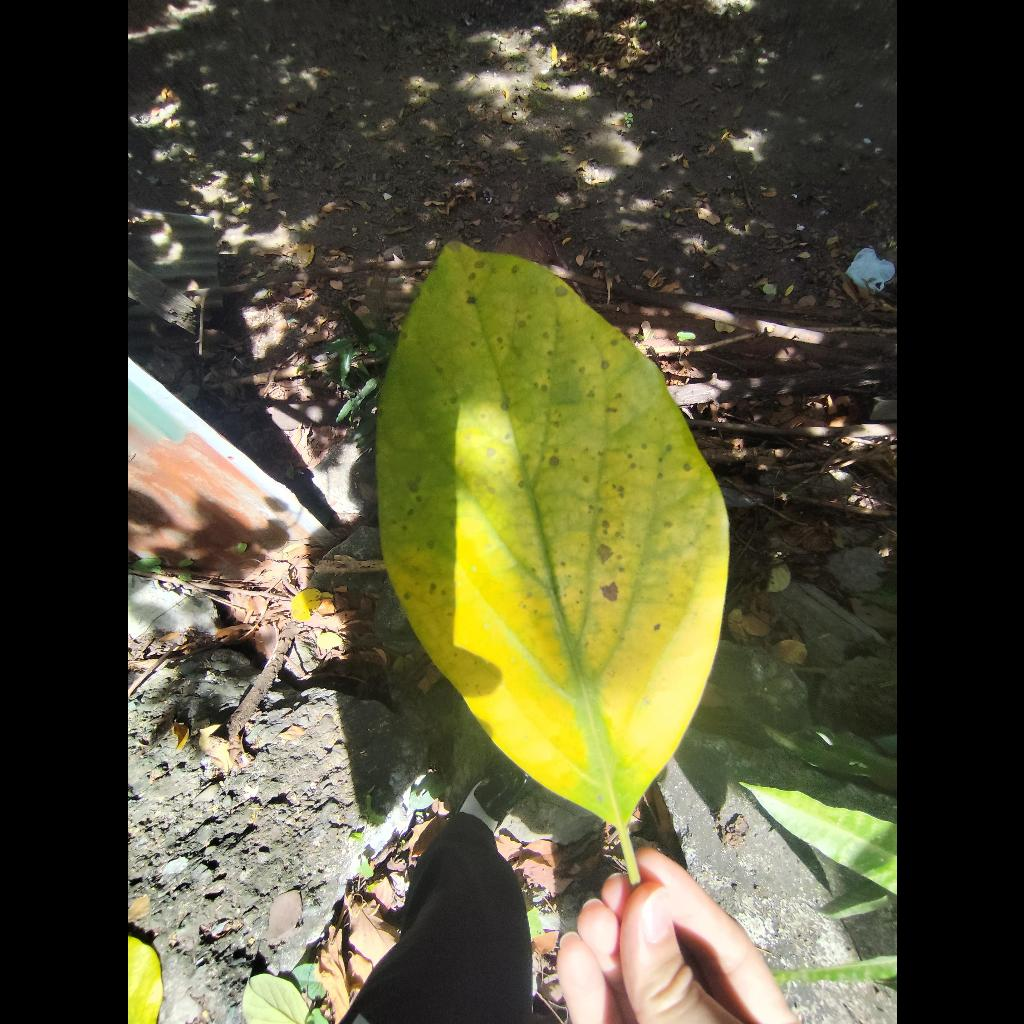nutrient_deficiency: (376, 243, 728, 852)
